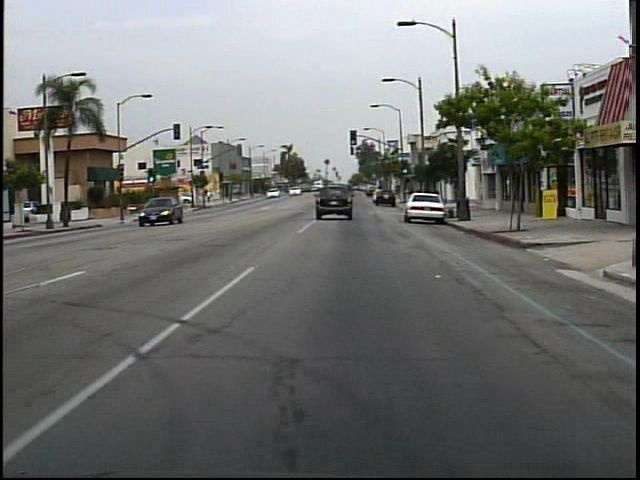person: (205, 187, 214, 206)
